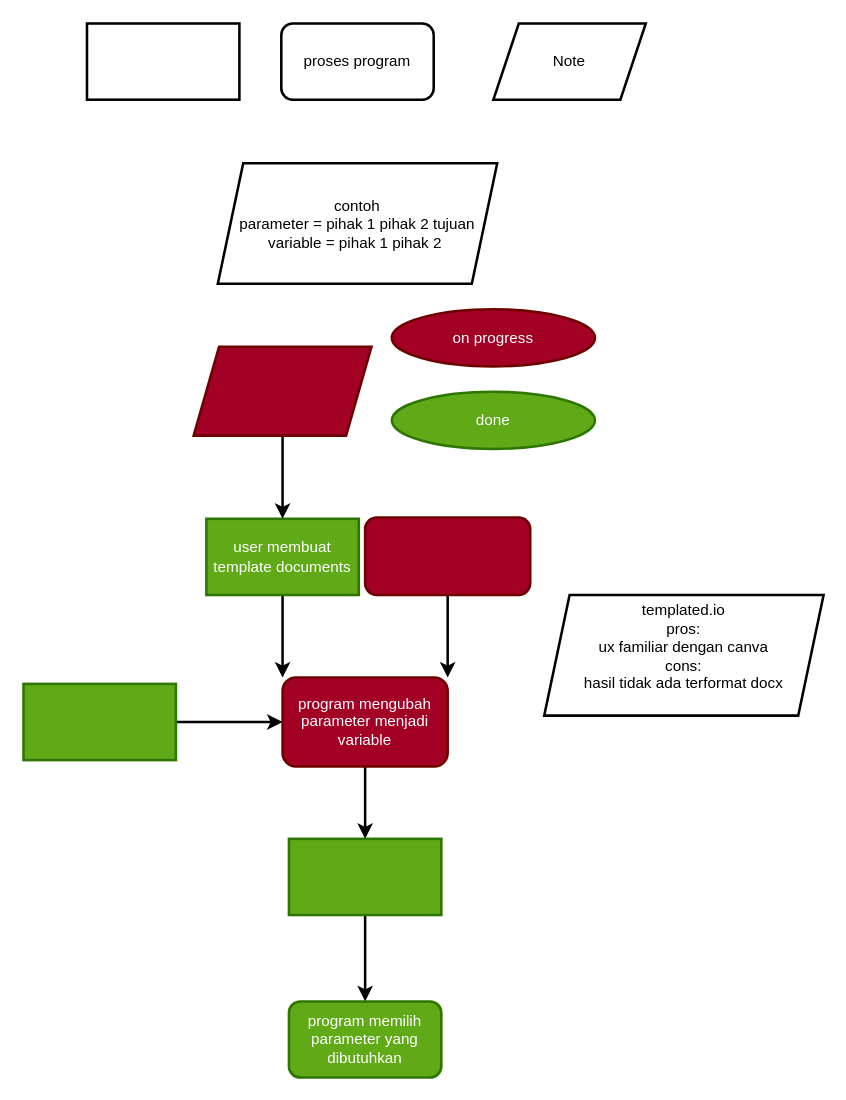
Some shapes in this 846 by 1100 pixel diagram are drawn without their labels. The centre of each missing label's shape, as x and y in pixels:
"akan menggunakan gdocs; sementara templated.io" belongs at [282,390].
"program dilatih dari dokumen sebelumnya" belongs at [447,556].
"proses user" belongs at [162,61].
"user memilih ingin membuat dokumen apa saja" belongs at [364,876].
"user menyiapkan parameter penting" belongs at [99,721].
